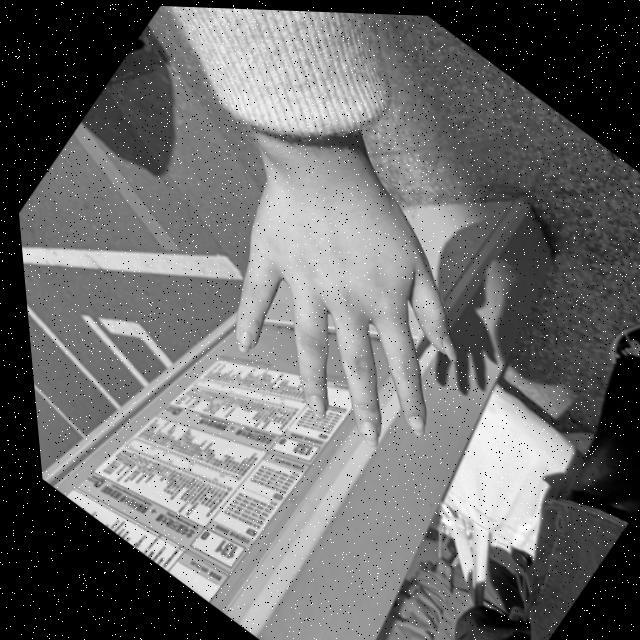no-gloves: (153, 136, 519, 480)
